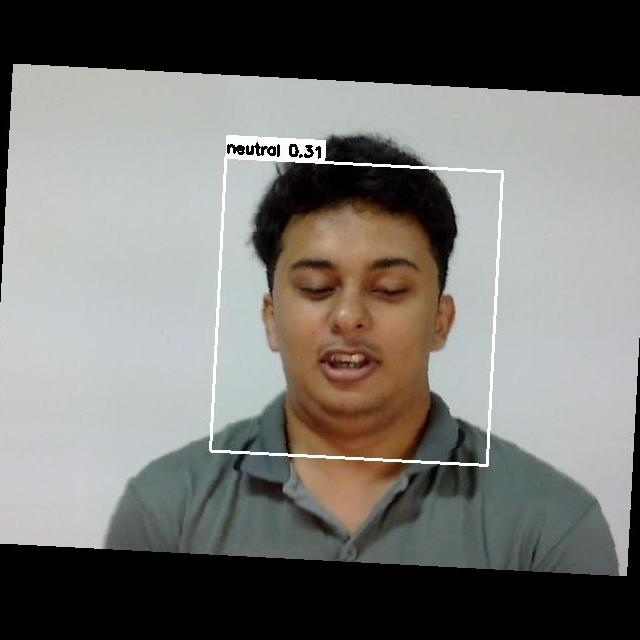Fear: (271, 239, 440, 397)
